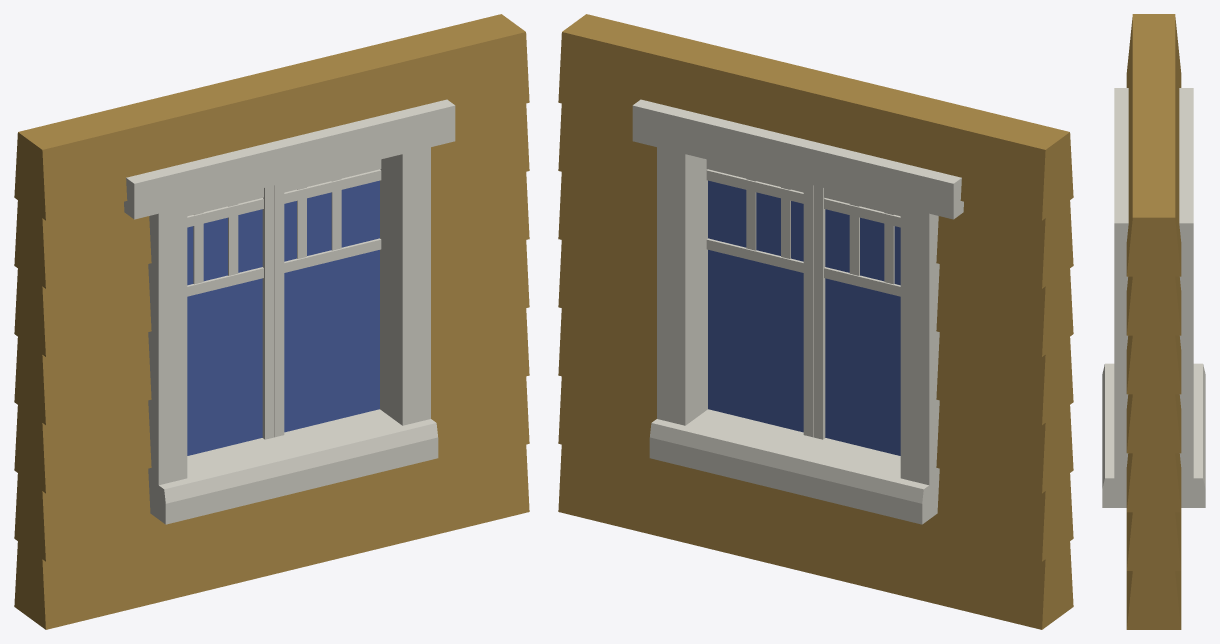
Rendered from Window01_house4.obj.
3 renders of one model, left to right at view 1: azimuth 30°, elevation 25°; view 2: azimuth 150°, elevation 25°; view 3: azimuth 270°, elevation 25°, orthographic. The views are drawn at different scales.
Visible parts, largest first — view 1: Window01_house04_Cube.002; view 2: Window01_house04_Cube.002; view 3: Window01_house04_Cube.002.
Part boxes in pixels (x1,y1,x2,y2): Window01_house04_Cube.002: [14, 14, 529, 629]; Window01_house04_Cube.002: [558, 14, 1073, 629]; Window01_house04_Cube.002: [1102, 14, 1205, 629].
Size of the model in its own units: 3.5 by 3.3 by 0.7526.
